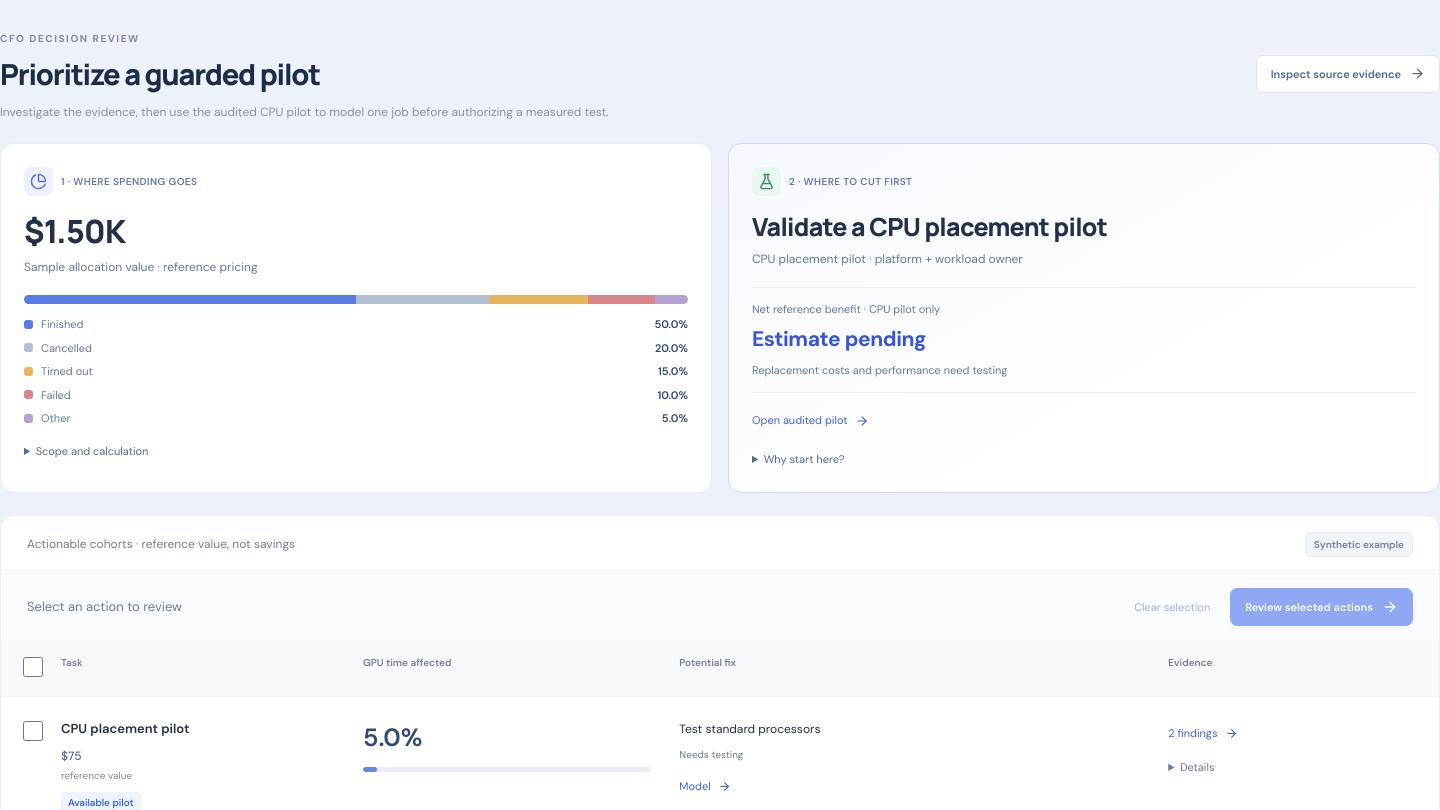
Test: decision table interactions › ignores an earlier selection summary arriving after the current summary
Click the checkbox named "Select CPU placement pilot" at x=33, y=731, box [23,721,43,741]
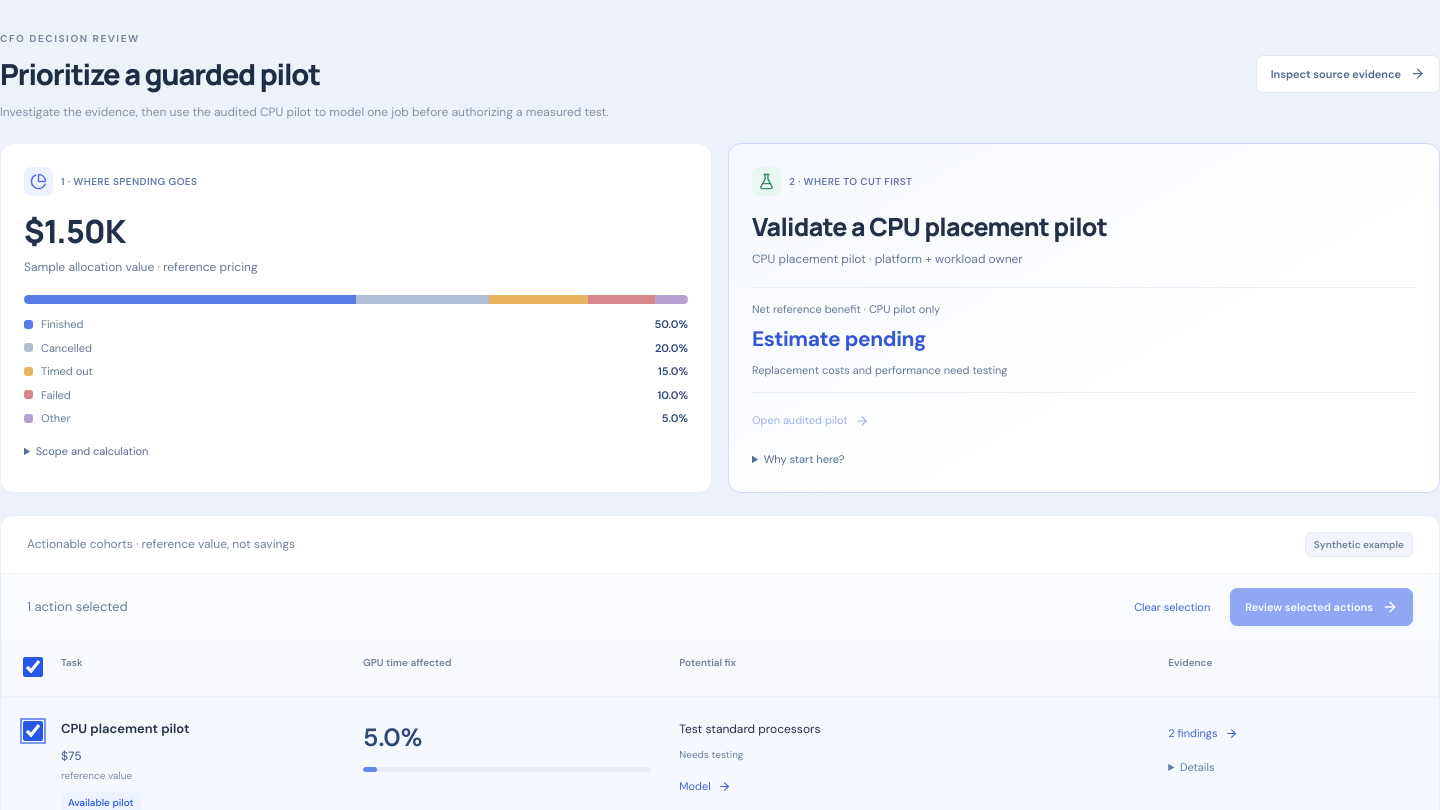
Click the checkbox named "Select CPU placement pilot" at x=33, y=731, box [23,721,43,741]
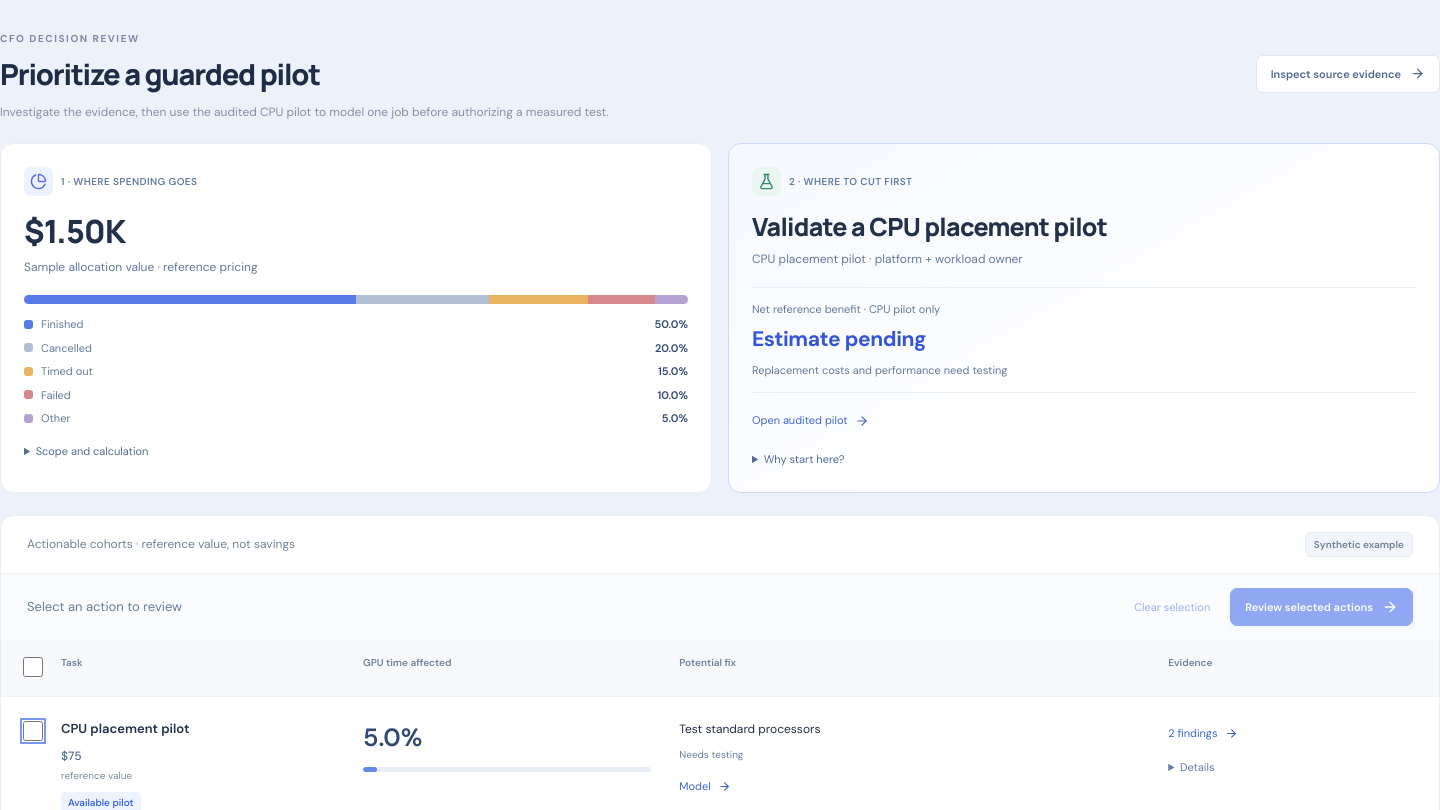
Expected: the button "Review selected actions" is disabled, [1230,588,1413,626]
Expected: the text "Select an action to review" is shown, [27,597,182,617]
